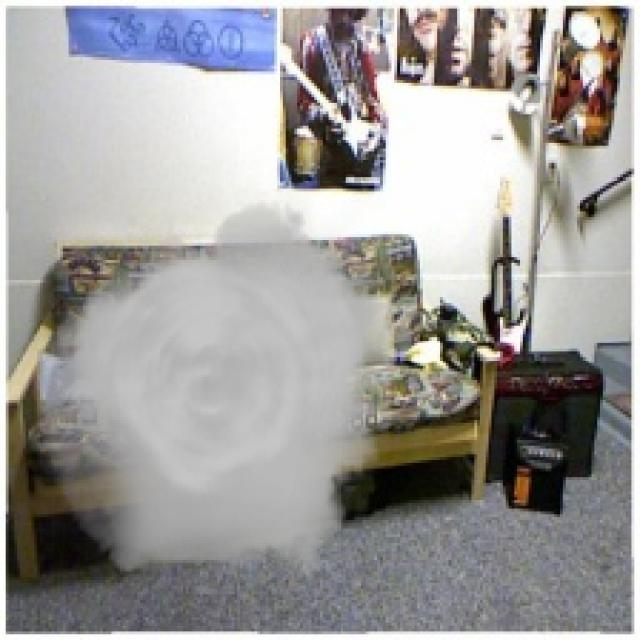smoke: (37, 189, 392, 594)
